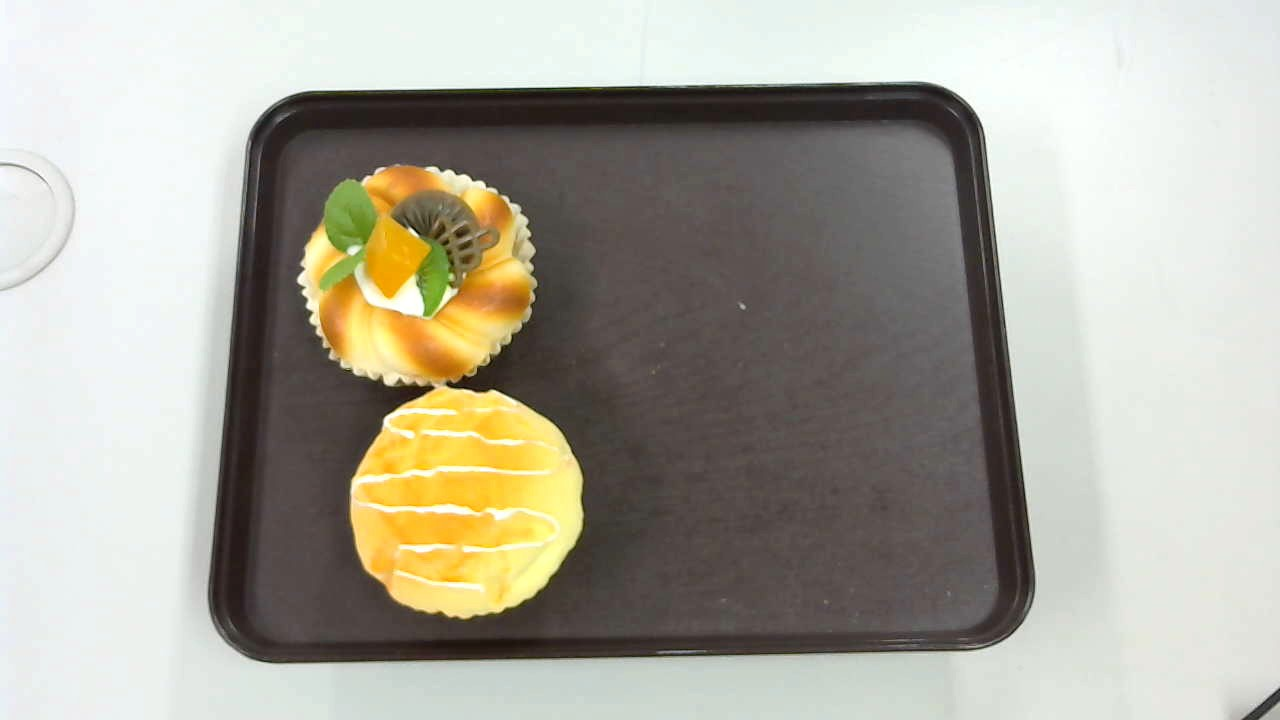cupcake: (350, 384, 589, 619)
fruit tart: (299, 163, 537, 389)
